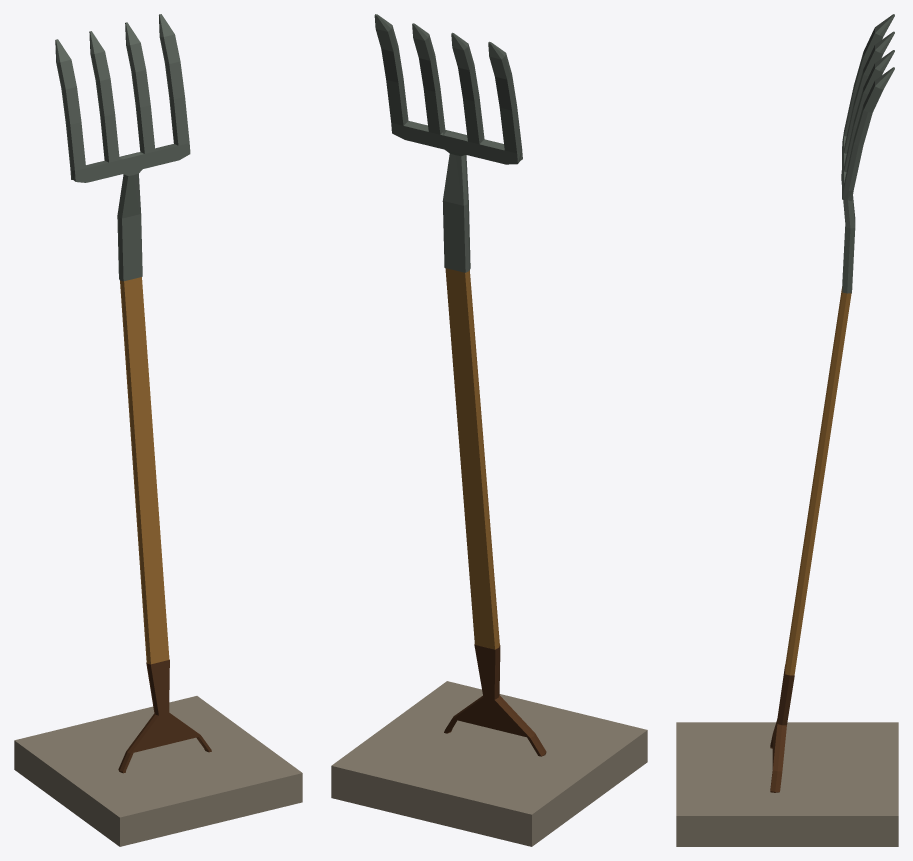
Rendered from Pitchfork.gltf.
3 renders of one model, left to right at view 1: azimuth 30°, elevation 25°; view 2: azimuth 150°, elevation 25°; view 3: azimuth 270°, elevation 25°, orthographic. The views are drawn at different scales.
Visible parts, largest first — view 1: Box, buffer-0-mesh-0 (×3); view 2: Box, buffer-0-mesh-0 (×3); view 3: Box, buffer-0-mesh-0 (×3).
Part boxes in pixels (x1=…): Box: x1=14, y1=696, x2=302, y2=846; buffer-0-mesh-0 (×3): x1=55, y1=14, x2=211, y2=773; Box: x1=331, y1=681, x2=647, y2=846; buffer-0-mesh-0 (×3): x1=374, y1=14, x2=546, y2=756; Box: x1=676, y1=722, x2=898, y2=846; buffer-0-mesh-0 (×3): x1=770, y1=14, x2=894, y2=792.
Size of the model in its own units: 1 by 3.79 by 1.
